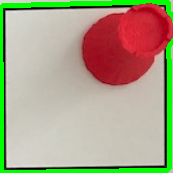Red Castle: (80, 1, 173, 89)
